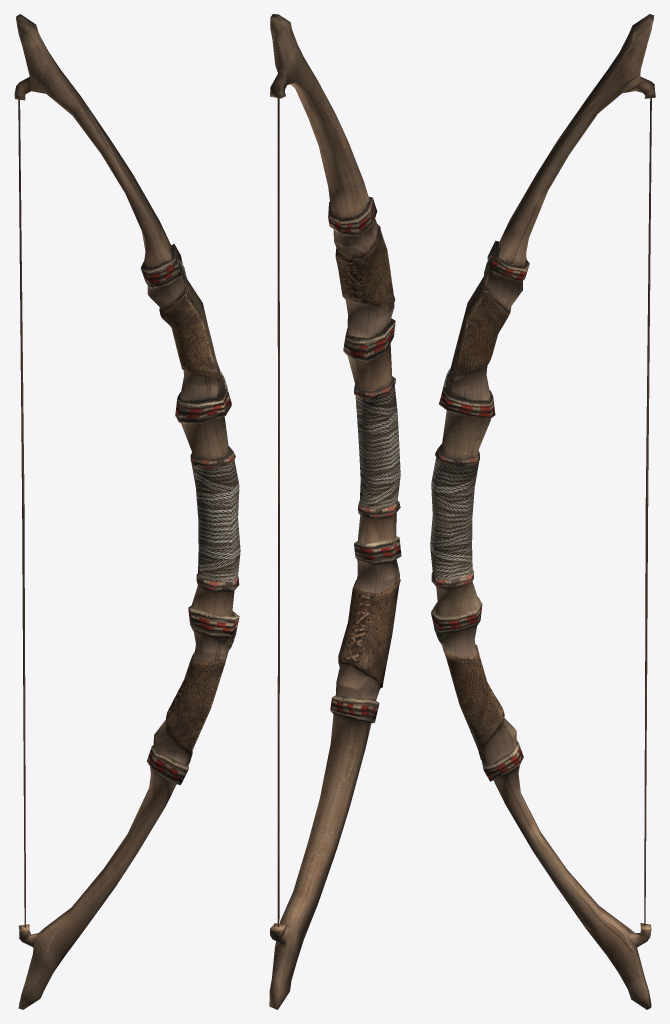
File: bow.glb
The picture shows the model from 3 angles, left to right: view 1: azimuth 90°, elevation 25°; view 2: azimuth 150°, elevation 25°; view 3: azimuth 270°, elevation 25°; orthographic projection.
Visible parts, largest first — view 1: Bow; view 2: Bow; view 3: Bow.
Part boxes in pixels (box(x1,y1,x2,y2)): Bow: box(14, 14, 240, 1009); Bow: box(269, 14, 401, 1009); Bow: box(430, 14, 655, 1009).
Size of the model in its own units: 0.1164 by 2.51 by 0.5169.
Materials: 1 (1 with a texture image).
